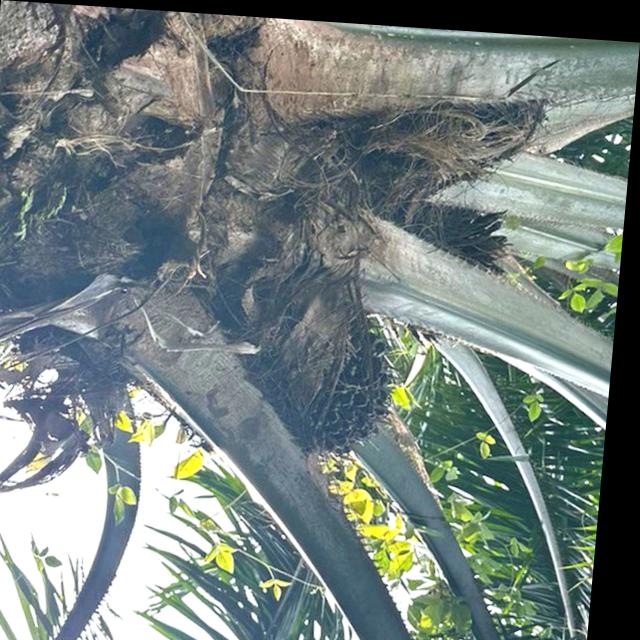almost: (244, 269, 418, 459)
